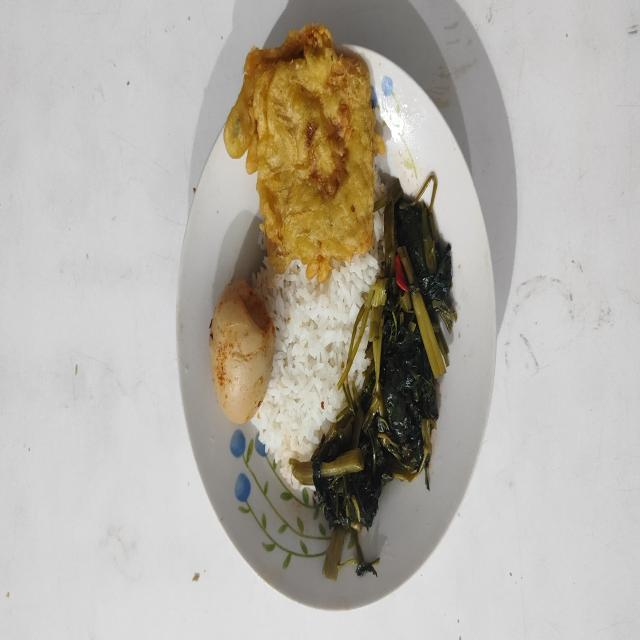nasi_putih: (251, 210, 383, 494)
tumis_kangkung: (289, 173, 456, 580)
